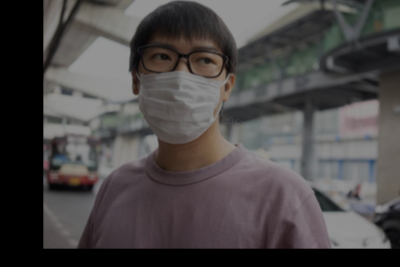with_mask: (136, 38, 225, 145)
